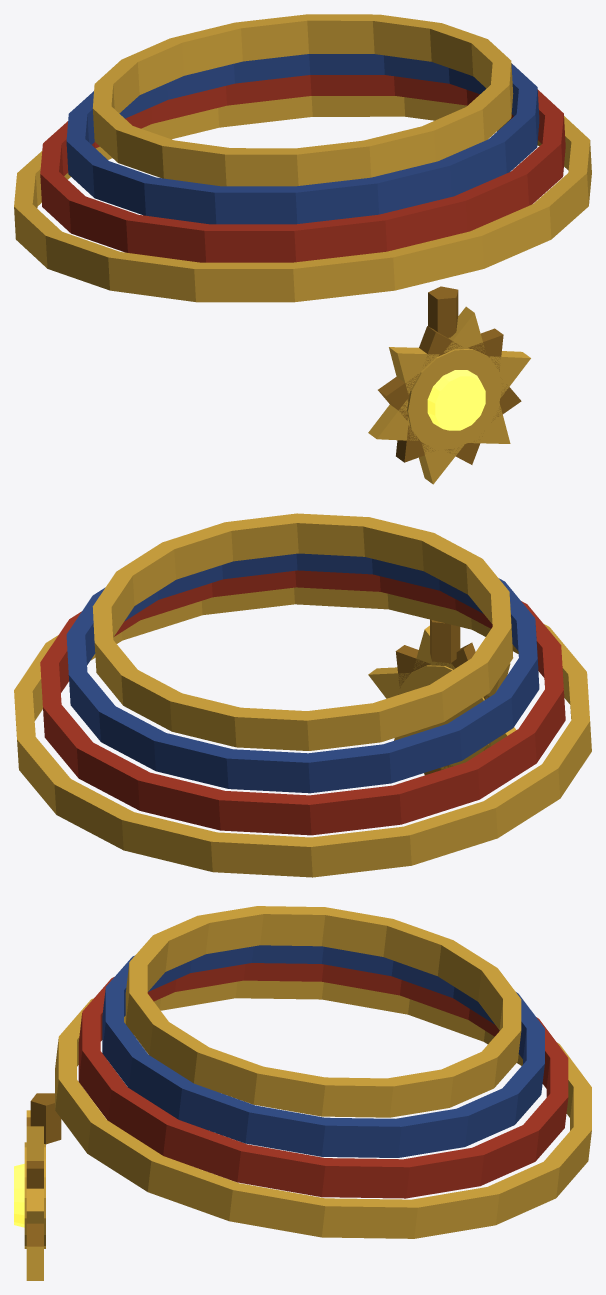
Rendered from mummy_priest_chest.glb.
3 renders of one model, top to bottom at view 1: azimuth 30°, elevation 25°; view 2: azimuth 150°, elevation 25°; view 3: azimuth 270°, elevation 25°, orthographic.
Visible parts, largest first — view 1: mummy_priest_chest; view 2: mummy_priest_chest; view 3: mummy_priest_chest.
Boxes of the visible parts, left/top/right/bottom form: mummy_priest_chest: left=14, top=14, right=591, bottom=484; mummy_priest_chest: left=14, top=513, right=591, bottom=877; mummy_priest_chest: left=14, top=906, right=591, bottom=1280.
Size of the model in its own units: 1.09 by 0.6151 by 1.08.
